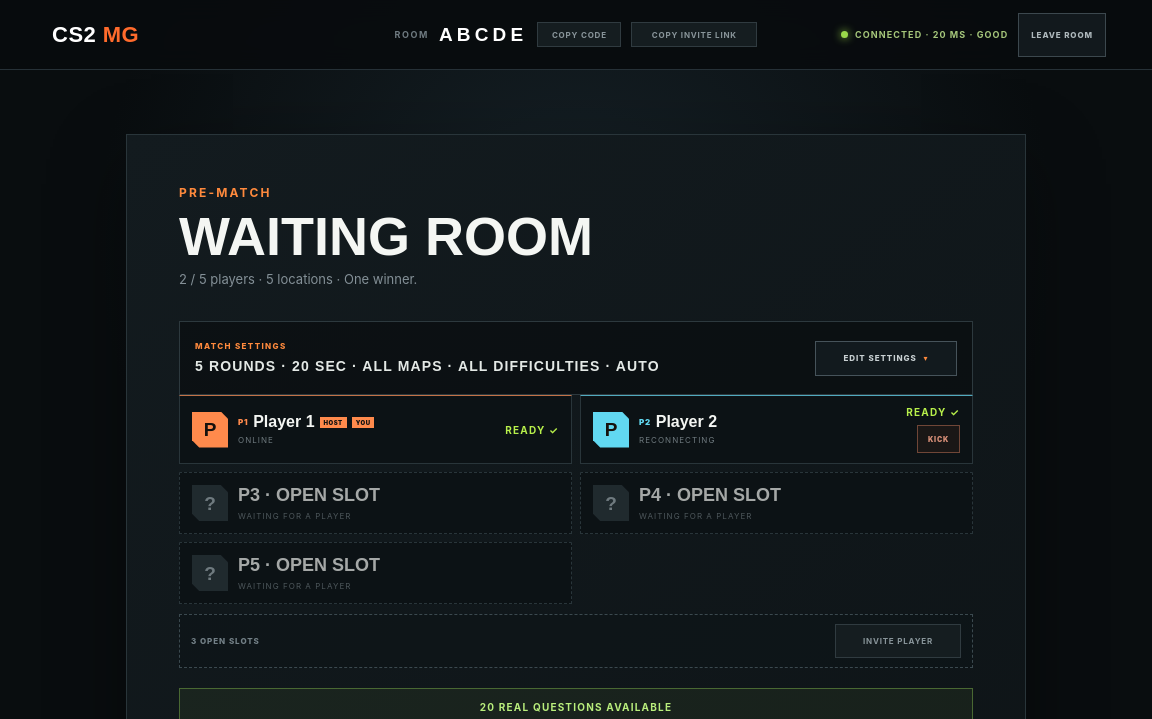
it: RoomPage multiplayer lobby wiring › shows disconnected-target copy in the custom kick dialog
The image size is (1152, 719).
Click the button named "Kick Player 2" at (938, 439), box top-left (917, 425), bottom-right (960, 453)
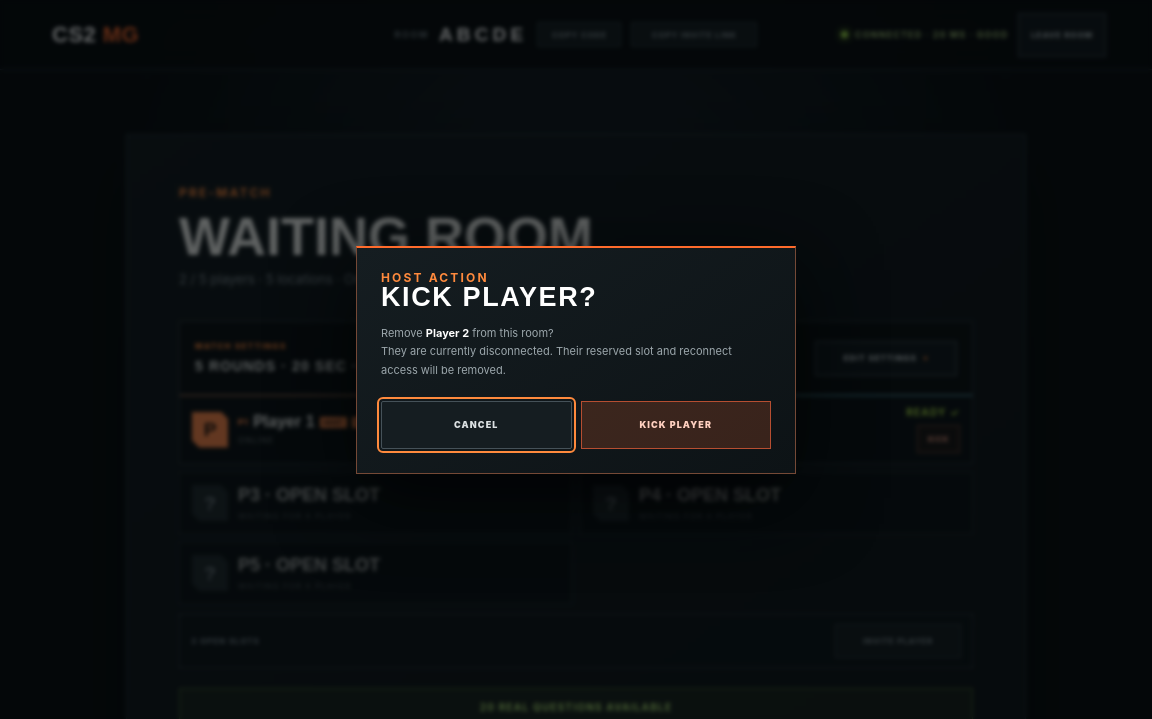
Now the dialog "KICK PLAYER?" shows "currently disconnected", box top-left (381, 344), bottom-right (732, 376)
